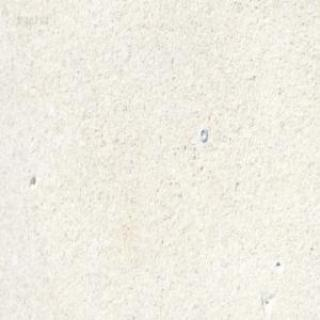Washertrack_idkeyframe: (198, 125, 206, 142)
